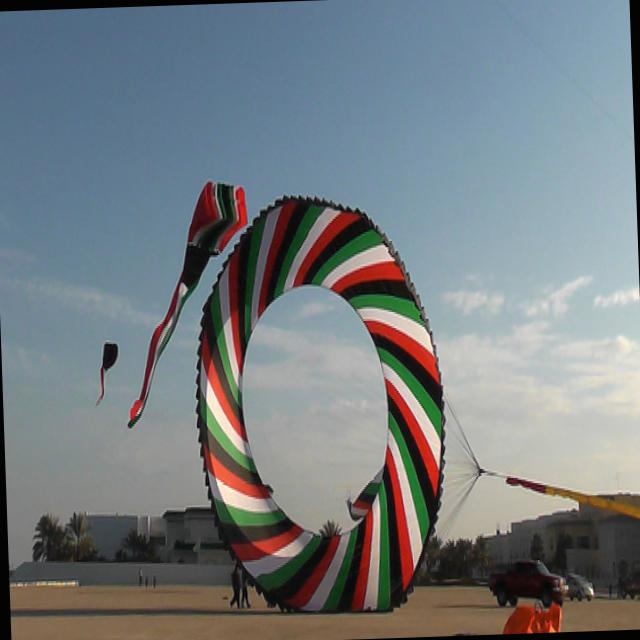Vehicle: (488, 557, 570, 611), (618, 565, 640, 599), (569, 574, 593, 598)
